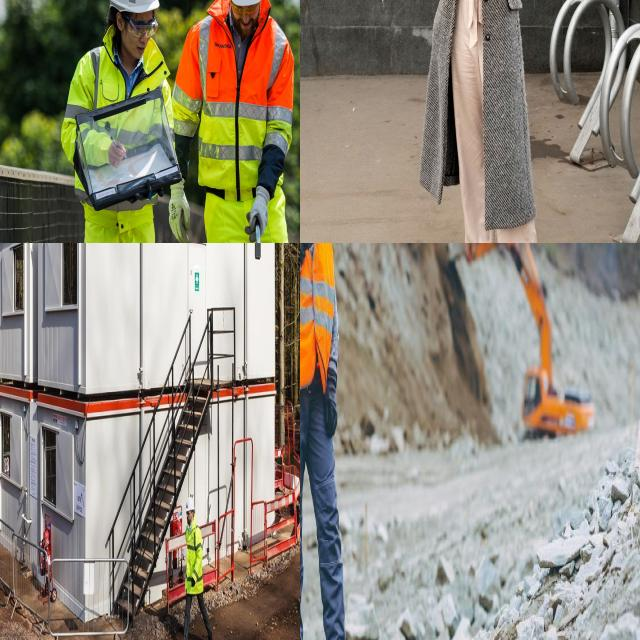face_nomask: (120, 6, 162, 62), (229, 0, 264, 47)
glasses: (130, 19, 158, 42), (228, 0, 259, 16)
hand_glove: (244, 151, 286, 243), (164, 162, 199, 243), (320, 372, 342, 437), (300, 243, 324, 259)
hand_noglove: (101, 132, 130, 170)
head_helmet: (186, 496, 194, 514)
person: (174, 0, 300, 243), (59, 0, 174, 243), (300, 243, 350, 640), (177, 495, 213, 640)
shoes: (206, 634, 215, 640)
vest: (178, 1, 294, 191), (60, 32, 176, 214), (300, 243, 338, 395), (184, 524, 204, 601)
